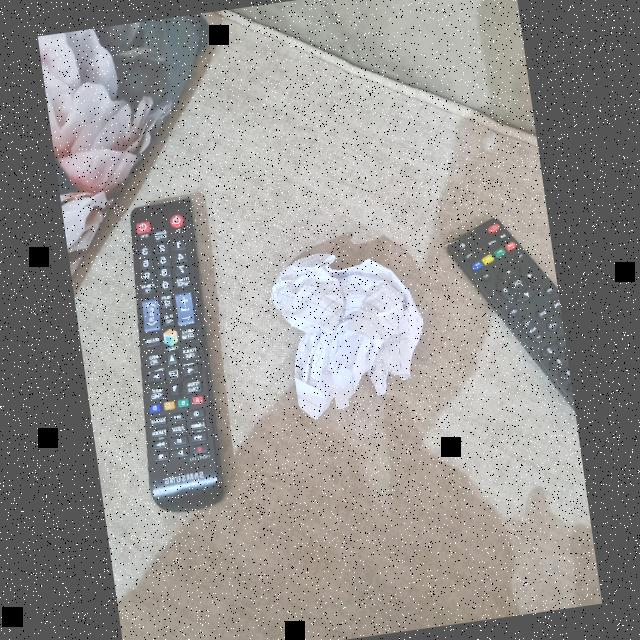scrap_paper: (266, 242, 430, 422)
